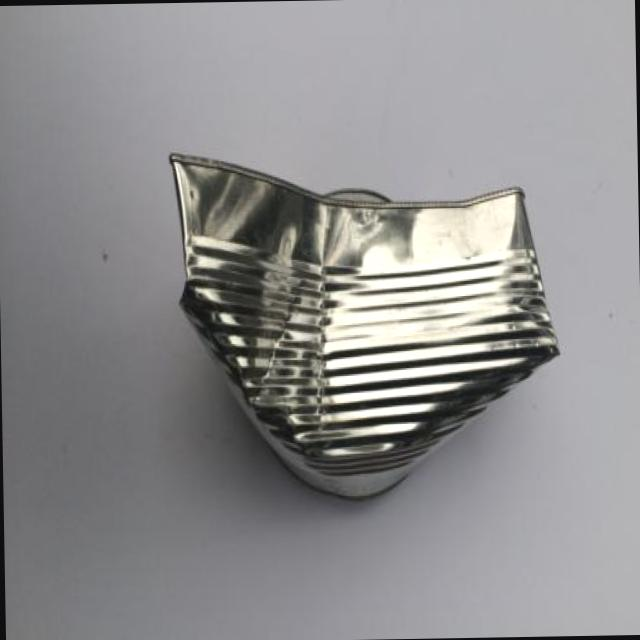kim_loai: (169, 154, 558, 499)
